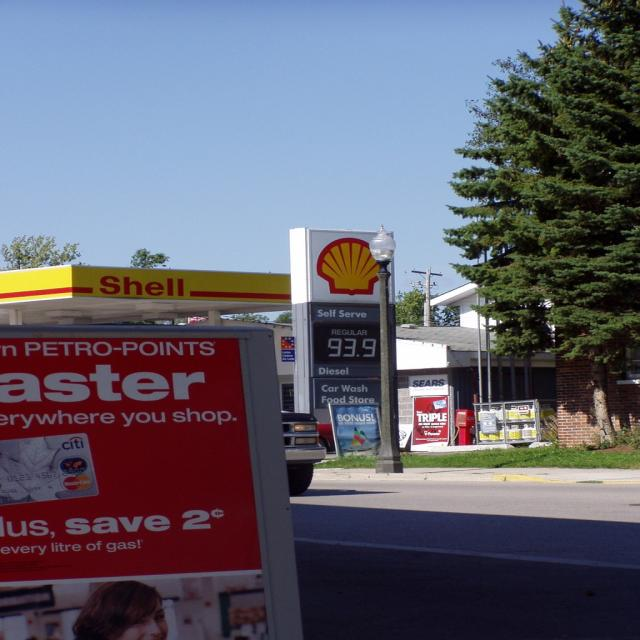shell: (318, 237, 379, 297)
